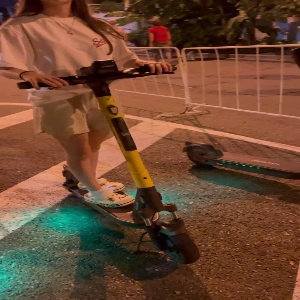human on a scooter: (1, 1, 201, 265)
